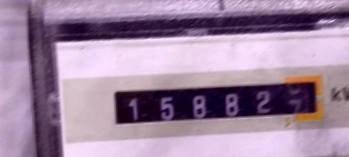1: (127, 91, 141, 121)
2: (254, 87, 272, 114)
5: (158, 92, 176, 123)
7: (287, 95, 301, 112)
8: (223, 88, 240, 117), (190, 91, 207, 119)
screen: (102, 64, 330, 135)
